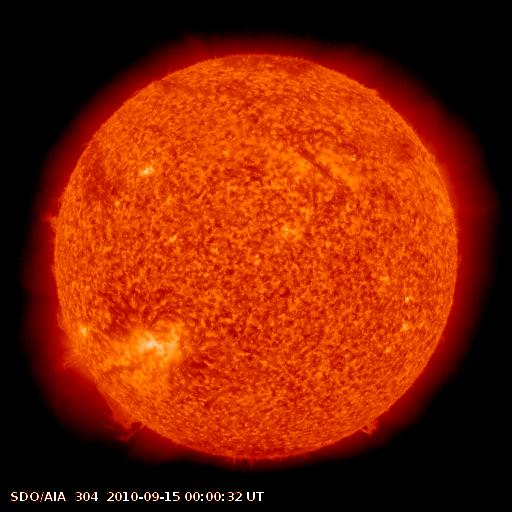prominence: (83, 374, 172, 452), (33, 181, 74, 246), (348, 402, 391, 450), (40, 301, 79, 340)
